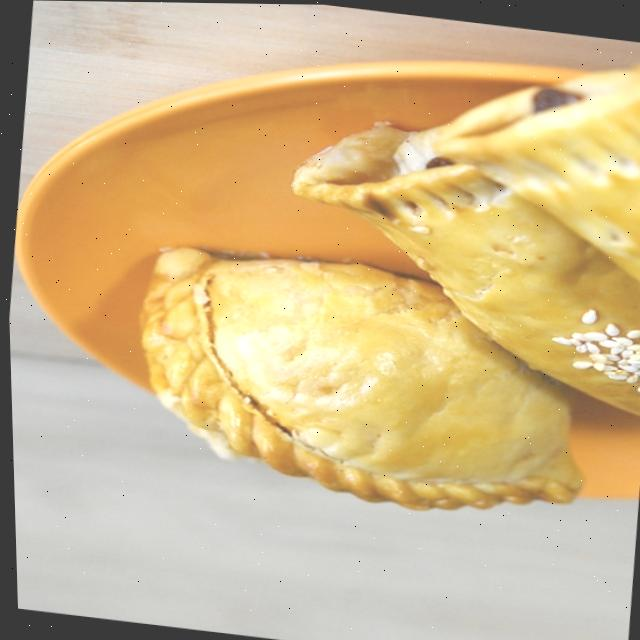炸货点心: (64, 8, 640, 599)
